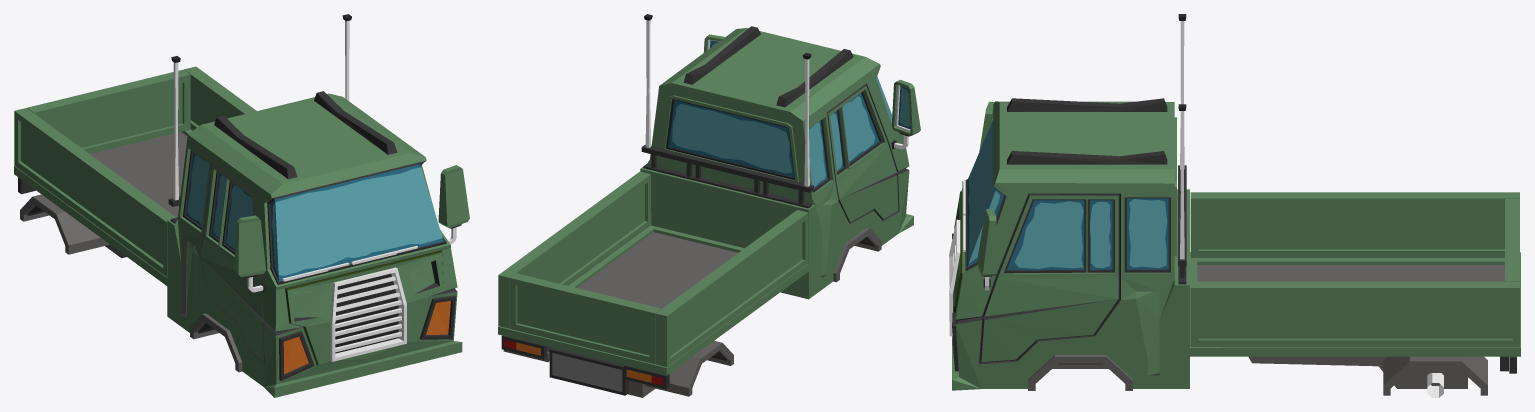
Rendered from Car_B_01.FBX.
3 views of the same model, side by side, from view 1: azimuth 30°, elevation 25°; view 2: azimuth 150°, elevation 25°; view 3: azimuth 270°, elevation 25° (orthographic). The views are drawn at different scales.
Visible parts, largest first — view 1: Car_B_01; view 2: Car_B_01; view 3: Car_B_01.
Part boxes in pixels (x1=…): Car_B_01: x1=14, y1=14, x2=469, y2=397; Car_B_01: x1=498, y1=14, x2=920, y2=397; Car_B_01: x1=949, y1=14, x2=1520, y2=397.
Bounding box in the file's own units: 3.82 × 4.48 × 7.57.
